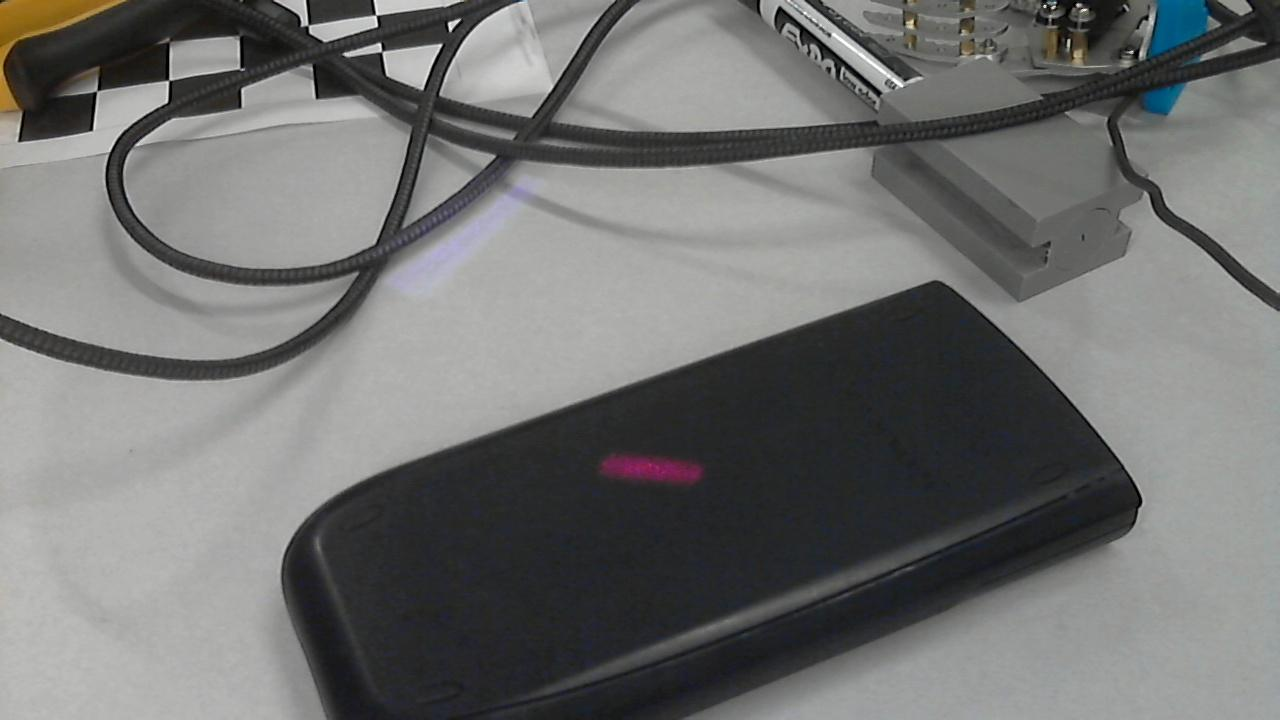Object insulated water bottle - Material metal - Color navy blue - Pdfname Uop6e: (563, 437, 723, 494)
